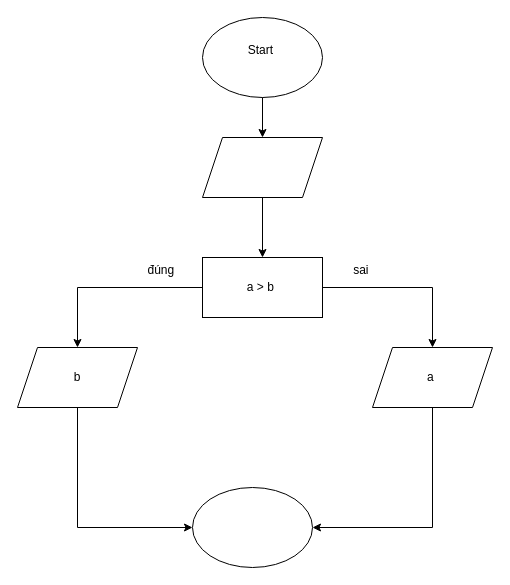
The diagram is 510 pixels wide and 585 high, and some of its shapes have lost their labels. The shapes that lost their labels are listed below. From the top down, each one's box as (x1, y1, x2, y2) in pixels, then its label:
(202, 136, 322, 198): a và b
(192, 486, 312, 568): End
